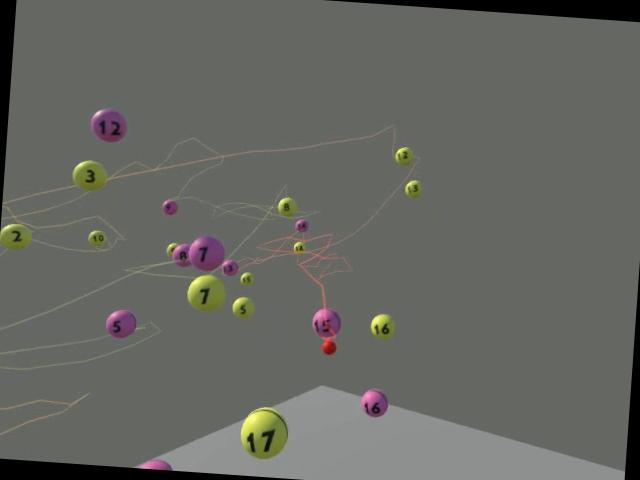ball_02_yellow: (0, 221, 31, 250)
ball_03_yellow: (70, 159, 108, 192)
ball_05_pink: (104, 308, 136, 339)
ball_05_yellow: (230, 296, 253, 317)
ball_07_pink: (187, 233, 225, 271)
ball_07_yellow: (186, 273, 226, 312)
ball_08_pink: (170, 242, 192, 266)
ball_08_yellow: (276, 197, 297, 216)
ball_09_pink: (160, 198, 178, 215)
ball_10_yellow: (86, 228, 106, 246)
ball_12_pink: (89, 107, 128, 142)
ball_12_yellow: (393, 146, 412, 166)
ball_13_pink: (220, 258, 238, 275)
ball_13_yellow: (404, 178, 422, 198)
ball_14_pink: (294, 217, 308, 232)
ball_14_yellow: (292, 241, 306, 254)
ball_15_pink: (310, 307, 342, 338)
ball_15_yellow: (238, 270, 252, 286)
ball_16_pink: (359, 386, 388, 417)
ball_16_yellow: (369, 313, 395, 340)
ball_17_yellow: (238, 405, 290, 460)
ball_unknown: (134, 456, 172, 470), (165, 241, 178, 257)
user_cursor: (320, 338, 336, 355)
